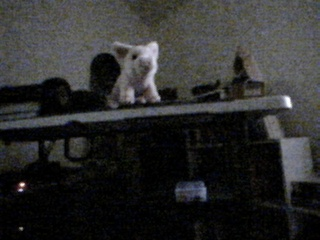piggy: (107, 39, 162, 106)
